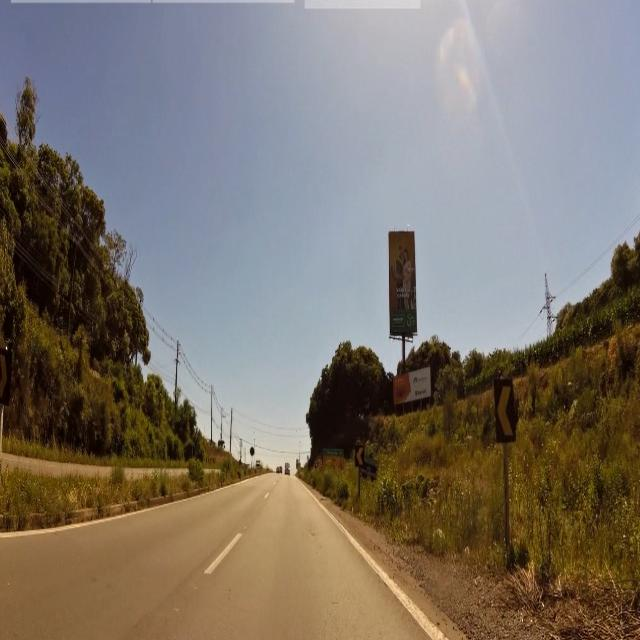Del: (495, 376, 514, 442)
